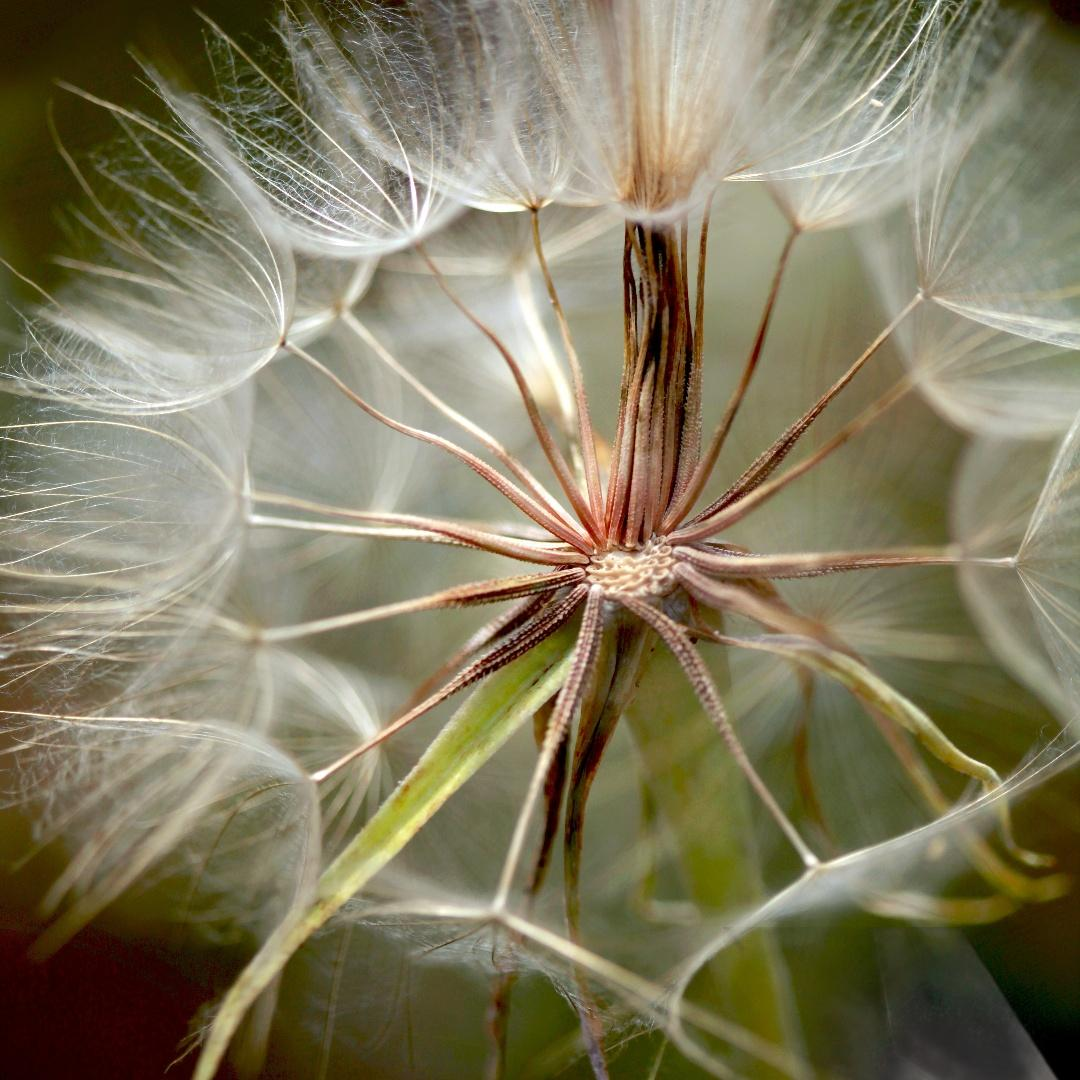paper: (723, 927, 1080, 1080)
